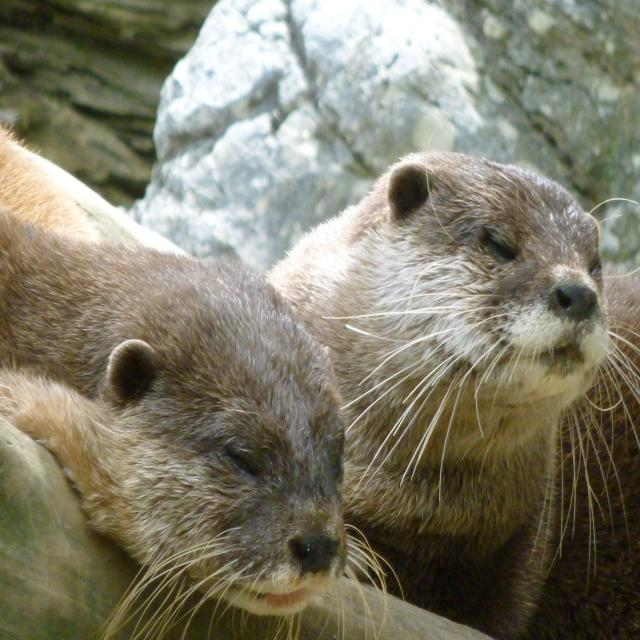otter: (1, 217, 346, 619), (277, 152, 640, 457)
